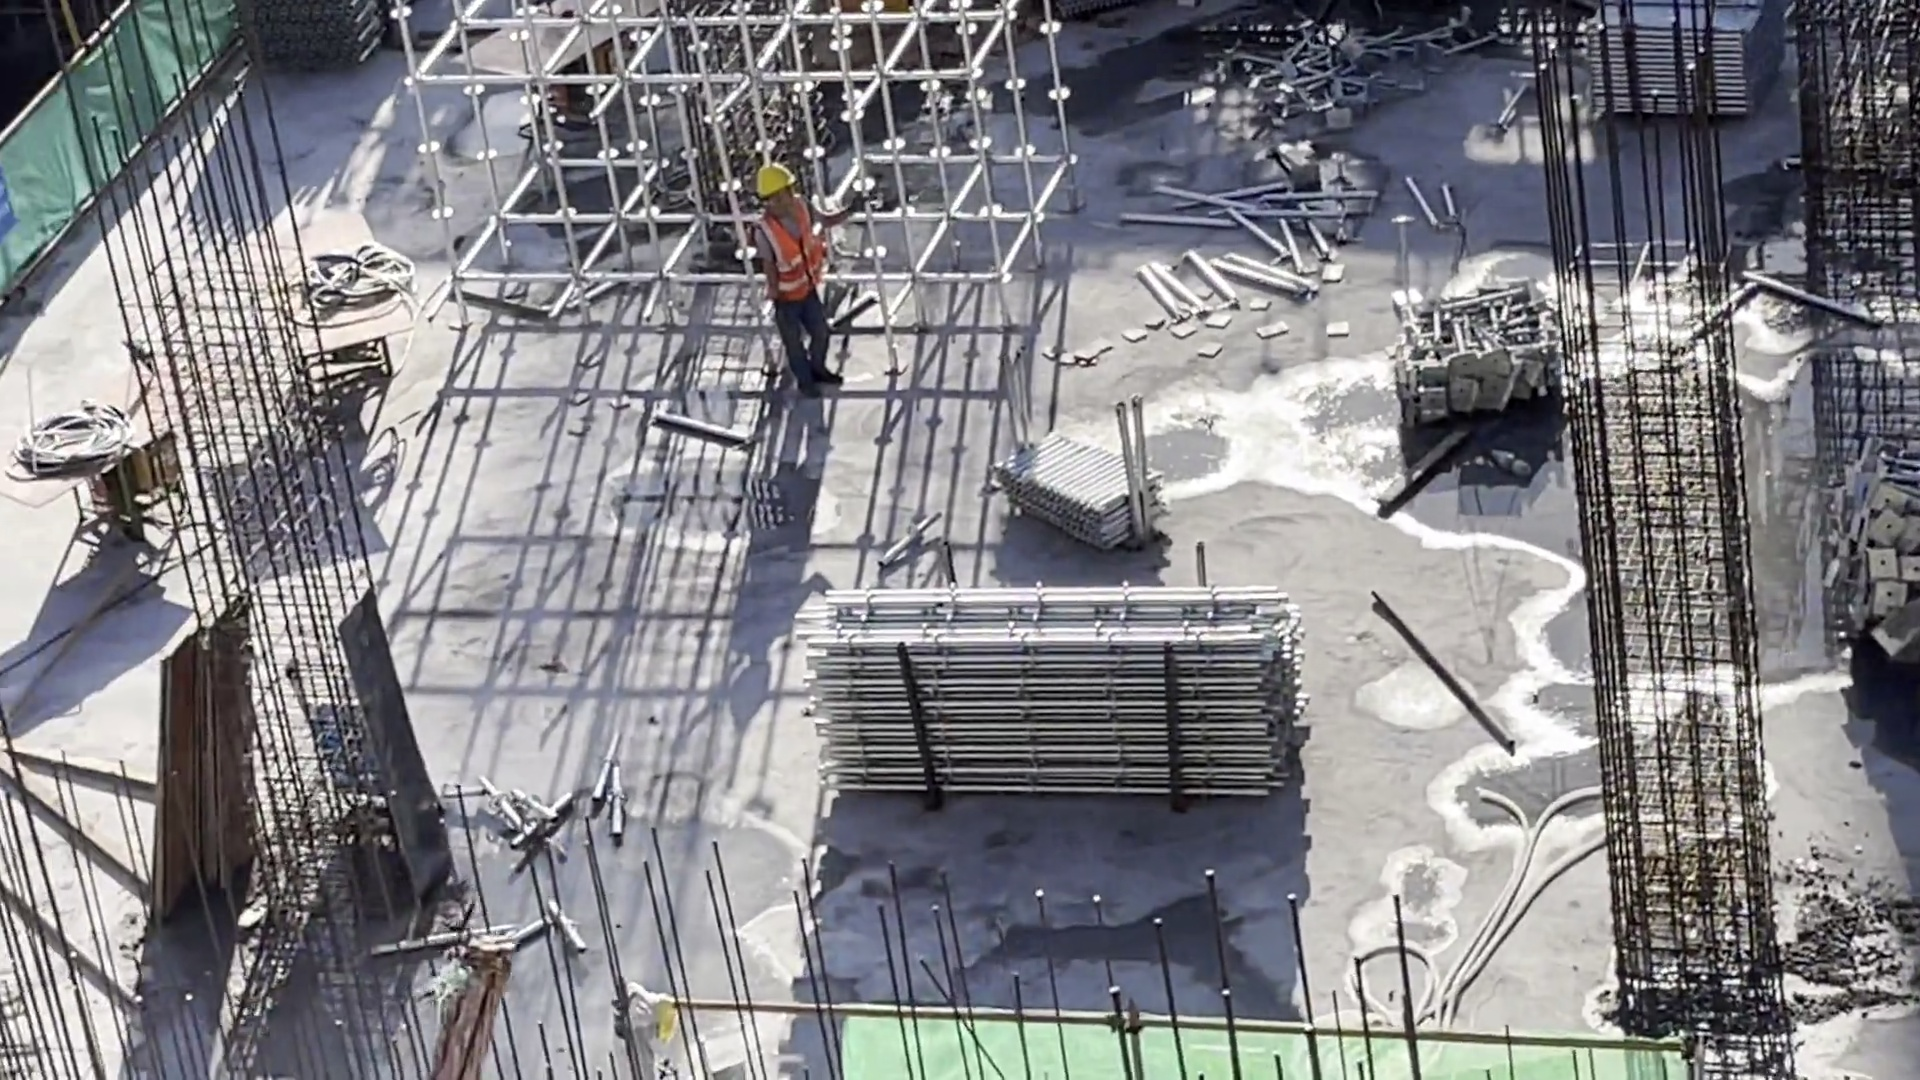board: (140, 592, 266, 916)
cutter: (10, 337, 225, 563), (233, 198, 432, 412), (462, 1, 680, 130)
helmet: (759, 157, 803, 201)
person: (744, 156, 854, 400)
scaffold: (818, 594, 1309, 804), (1391, 276, 1582, 437), (1581, 8, 1797, 131), (1018, 433, 1181, 547), (1821, 460, 1920, 641)
vest: (755, 206, 833, 297)
